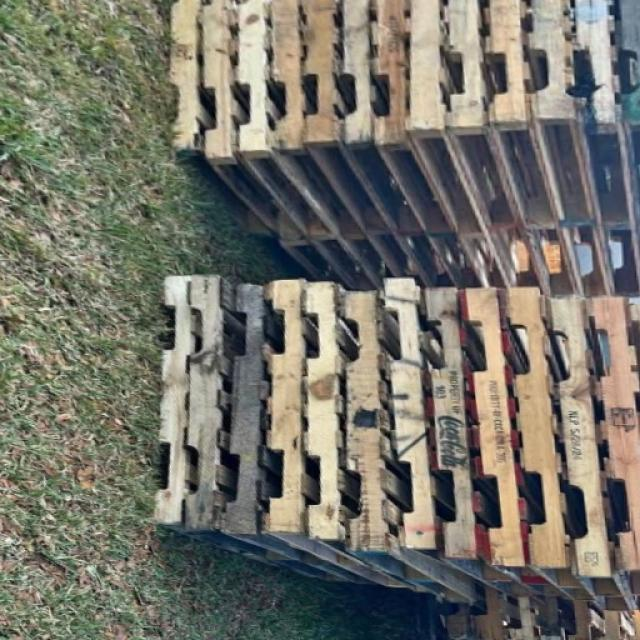non-igps: (449, 279, 538, 577), (534, 286, 622, 584), (491, 279, 578, 576), (369, 274, 453, 556), (330, 282, 412, 562), (415, 279, 485, 572), (175, 264, 245, 540), (580, 288, 640, 580), (253, 273, 316, 544), (217, 276, 279, 541), (297, 274, 356, 548), (144, 266, 194, 540), (191, 0, 245, 170), (360, 0, 419, 155), (564, 0, 628, 140), (435, 0, 497, 144), (472, 0, 536, 136), (516, 0, 582, 131), (293, 0, 349, 154), (259, 0, 313, 159), (398, 0, 453, 146), (230, 0, 278, 165), (159, 0, 206, 163), (332, 0, 380, 154)
